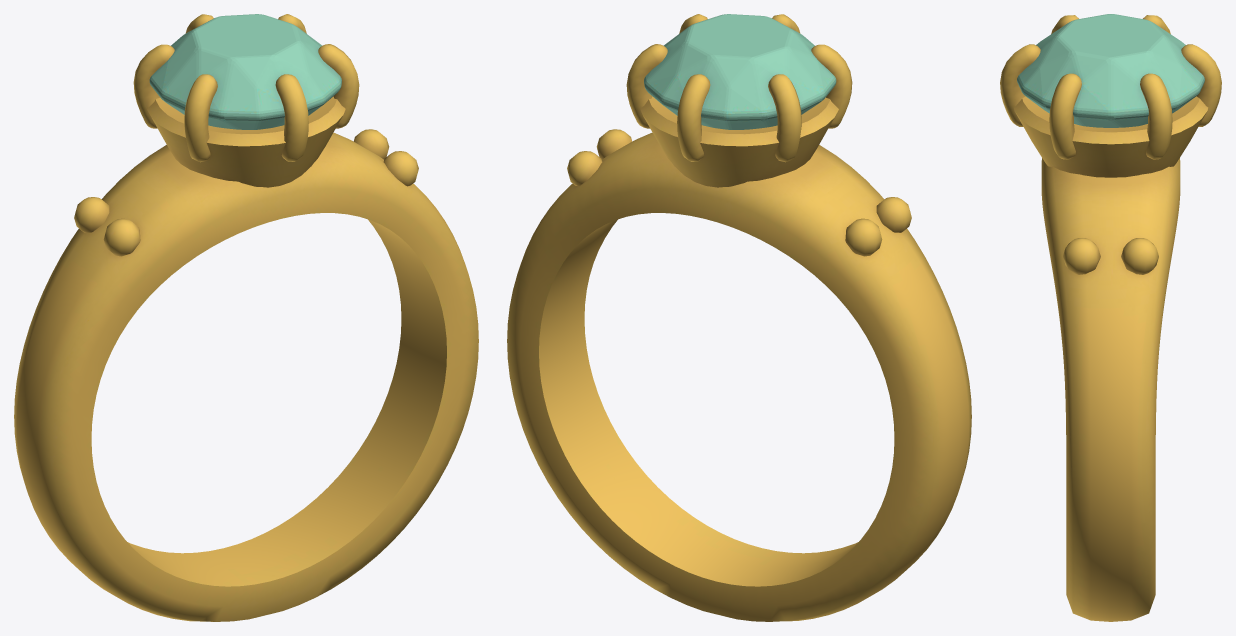
The model's file is demo-gold-ring.glb.
The picture shows the model from 3 angles, left to right: view 1: azimuth 30°, elevation 25°; view 2: azimuth 150°, elevation 25°; view 3: azimuth 270°, elevation 25°; orthographic projection.
Visible parts, largest first — view 1: ring_body; view 2: ring_body; view 3: ring_body.
Boxes of the visible parts, left/top/right/bottom form: ring_body: left=14, top=14, right=478, bottom=621; ring_body: left=507, top=14, right=971, bottom=621; ring_body: left=1000, top=14, right=1221, bottom=621.
Size of the model in its own units: 0.0223 by 0.0273 by 0.00992.
1 material, 1 textured.
